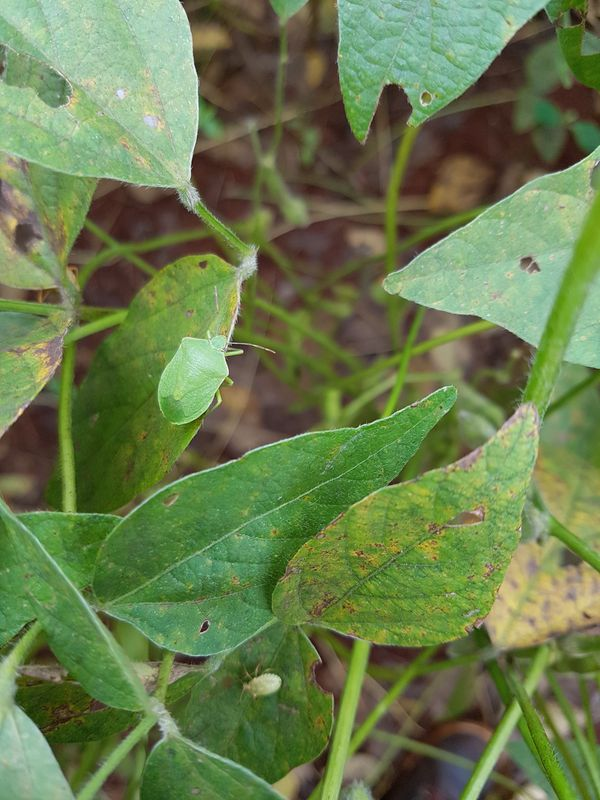Euschistus_heros_ninfa: (228, 653, 291, 709)
Nezara_viridula_adulto: (148, 313, 260, 434)
